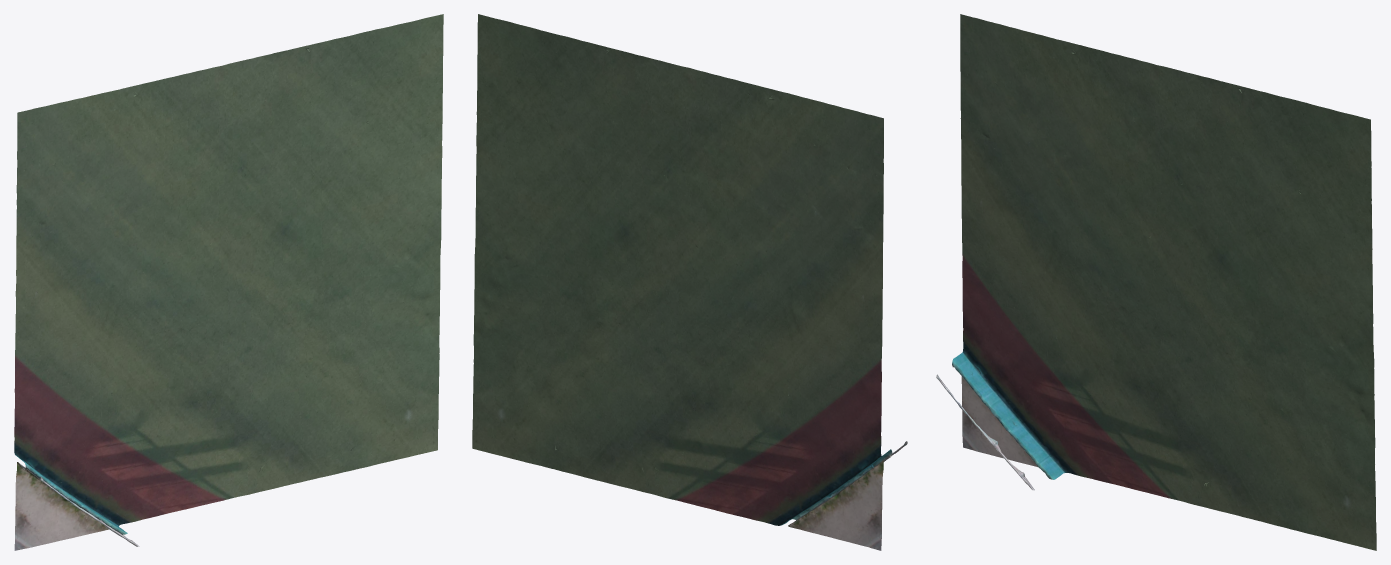
The model's file is Tile_+014_+005.fbx.
3 renders of one model, left to right at view 1: azimuth 30°, elevation 25°; view 2: azimuth 150°, elevation 25°; view 3: azimuth 330°, elevation 25°, orthographic. The views are drawn at different scales.
Parts seen in each view (by area): view 1: DefaultName; view 2: DefaultName; view 3: DefaultName.
Part boxes in pixels (x1,y1,x2,y2): DefaultName: (14,14,443,550); DefaultName: (472,14,907,550); DefaultName: (936,14,1376,550).
Size of the model in its own units: 22.54 by 22.54 by 2.57.
